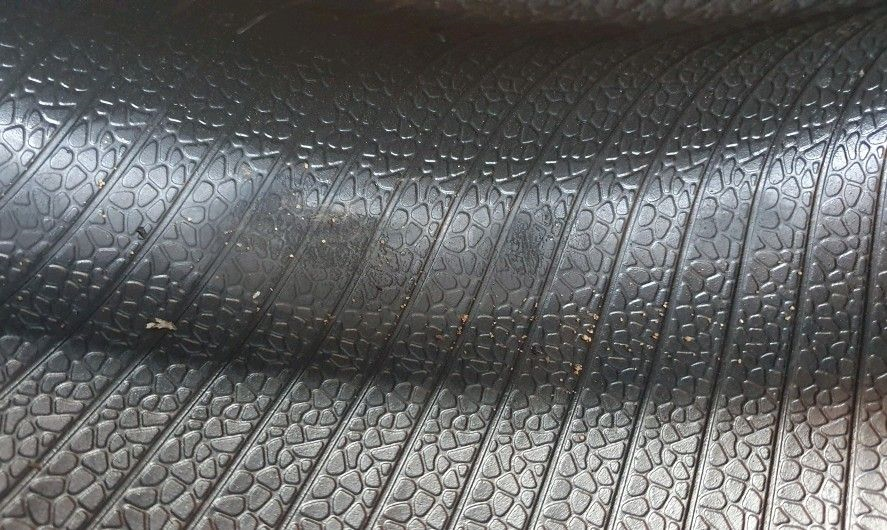CBU: (202, 160, 431, 344), (478, 201, 566, 286)
